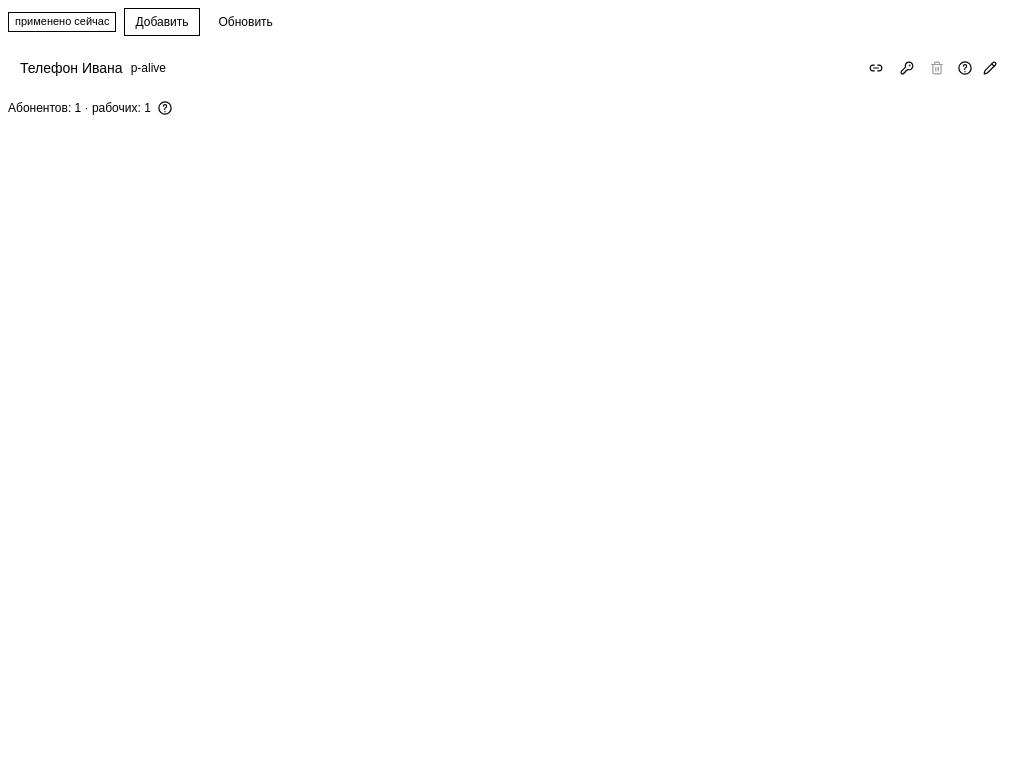
Test: добавление › успех со своим паролем даёт TS-05 и закрывает модалку
Check: the text "Телефон Ивана" is shown, box [20,60,123,76]
Click the button "Добавить" at {"x": 162, "y": 22}, box [124,8,200,36]
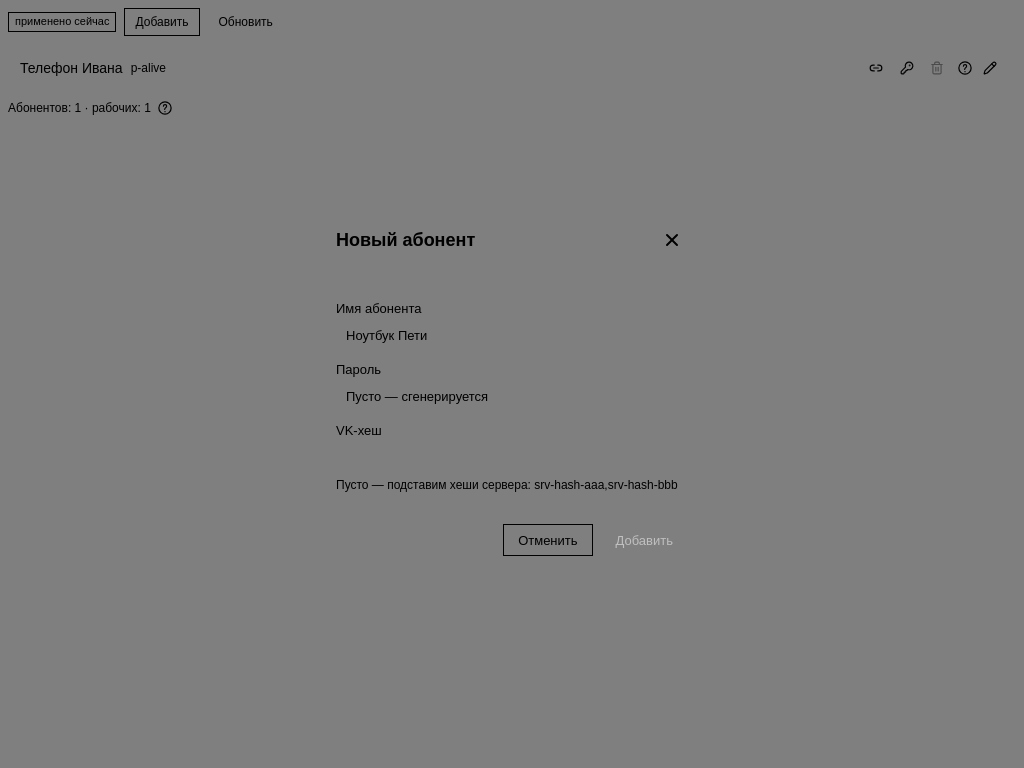
Type "Ноутбук" into the field labelled "Имя абонента" at {"x": 512, "y": 336}, box [336,320,688,352]
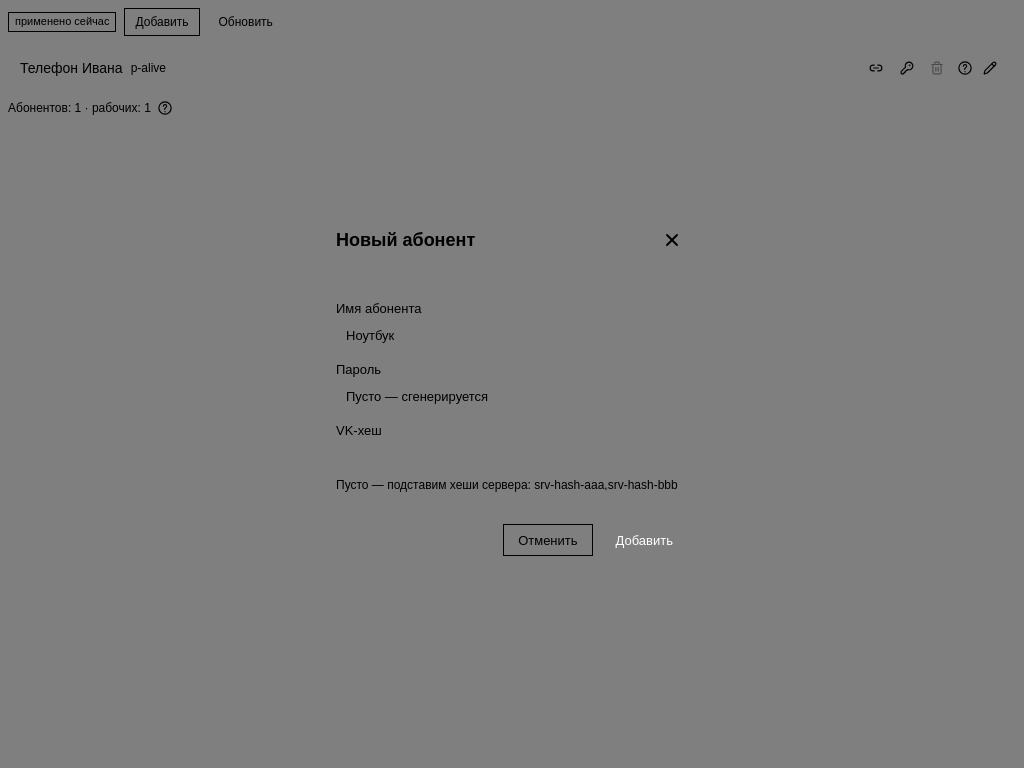
Type "mine1234" into the field labelled "Пароль" at {"x": 512, "y": 397}, box [336,381,688,413]
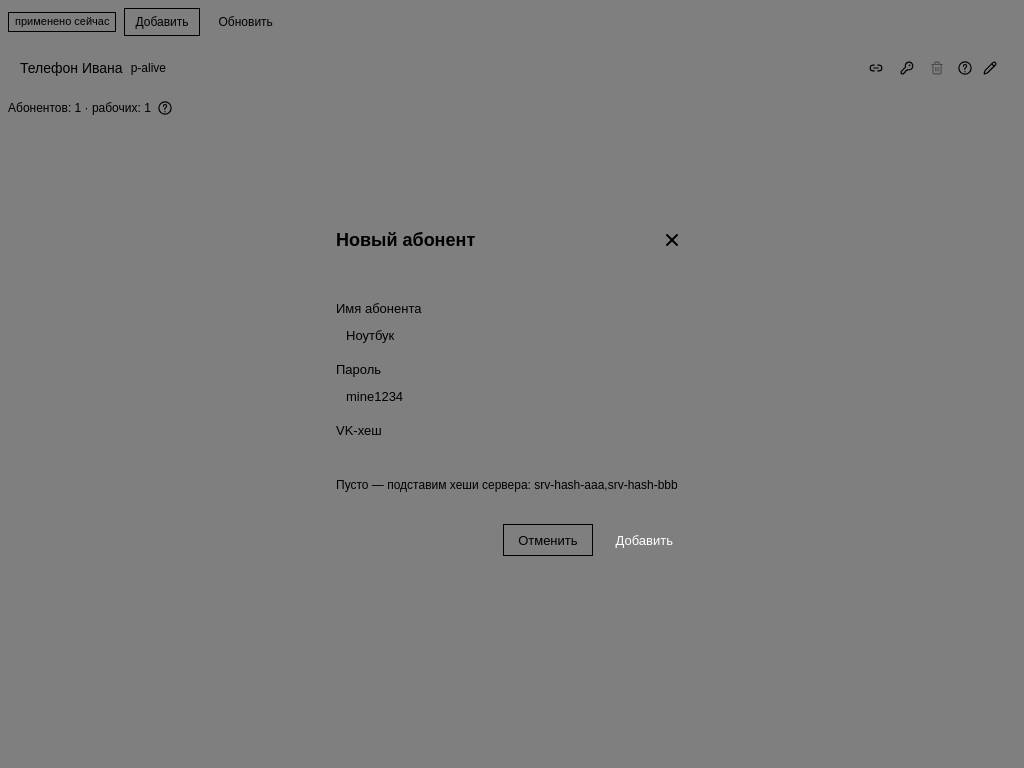
Click the button "Добавить" at {"x": 644, "y": 540}, box [600,524,688,556]
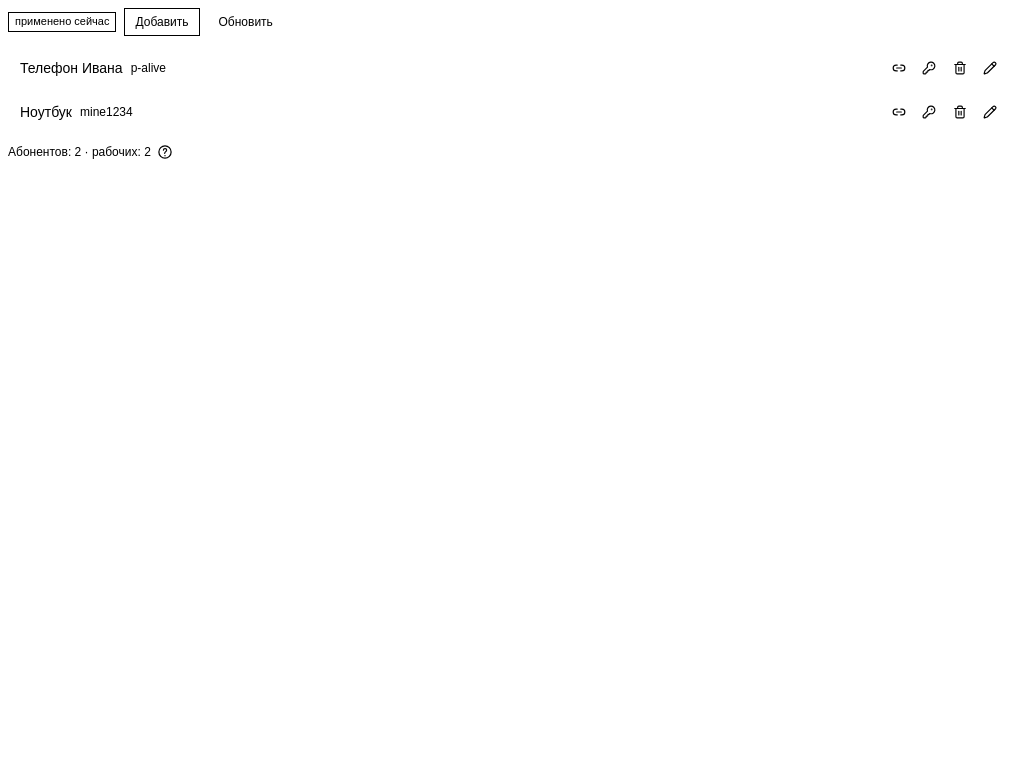
Check: the dialog is gone
